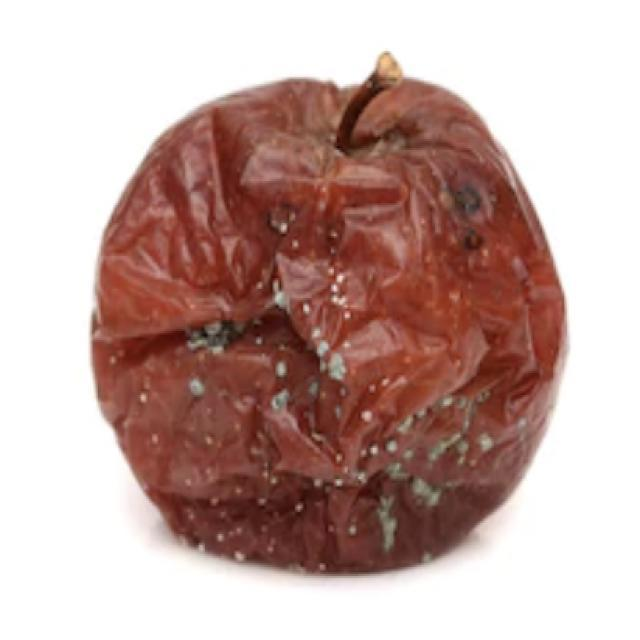Rotten: (83, 97, 570, 580)
